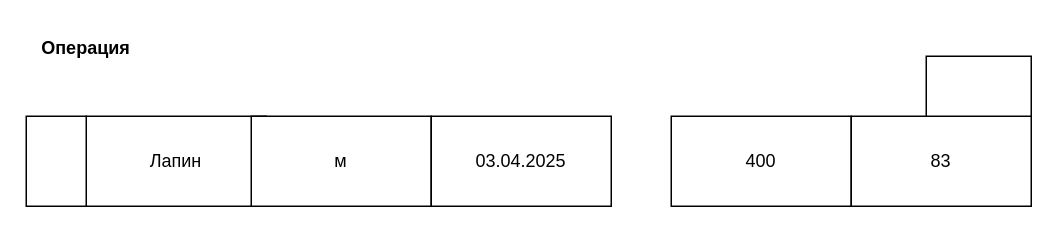
Image size: 1058x233. Some labels were removed from this diagram. The shapes that lost their labels are listed below. From the top down, each one's centre as x and y in pixels, then its label:
the point at 978,85: Ключ номер
the point at 55,160: Номер ячейки 400
